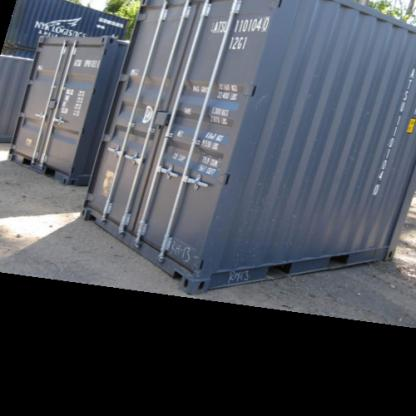Damage: (163, 236, 199, 268), (247, 86, 267, 114), (224, 266, 248, 283)
